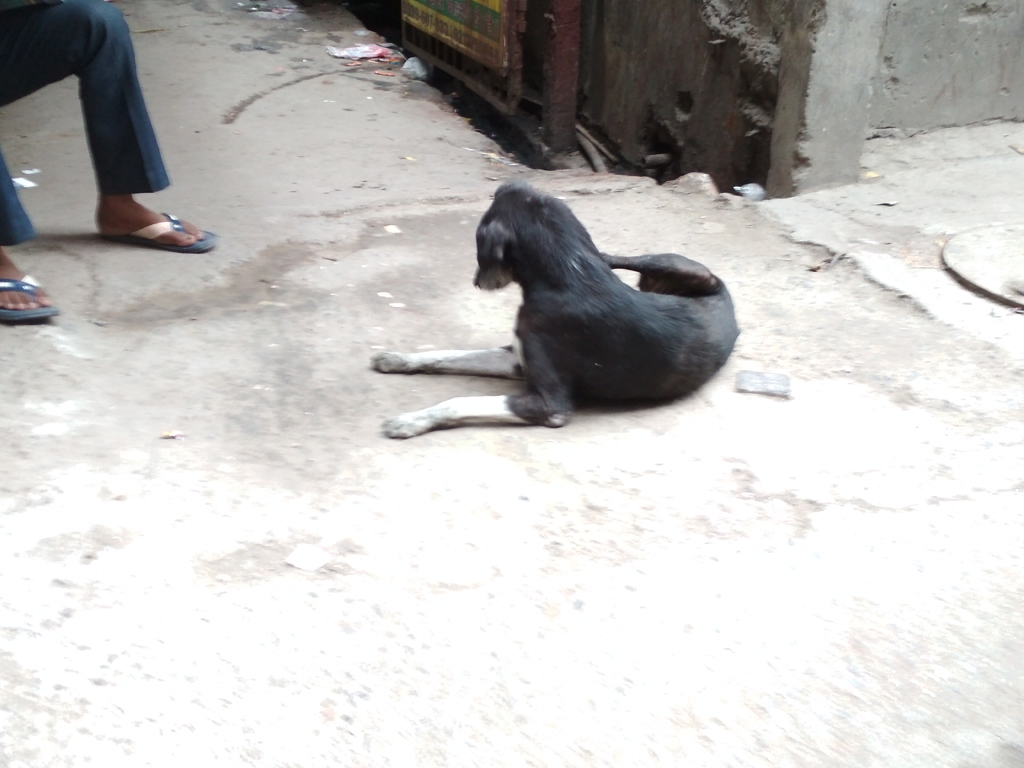dog: (370, 183, 739, 441)
